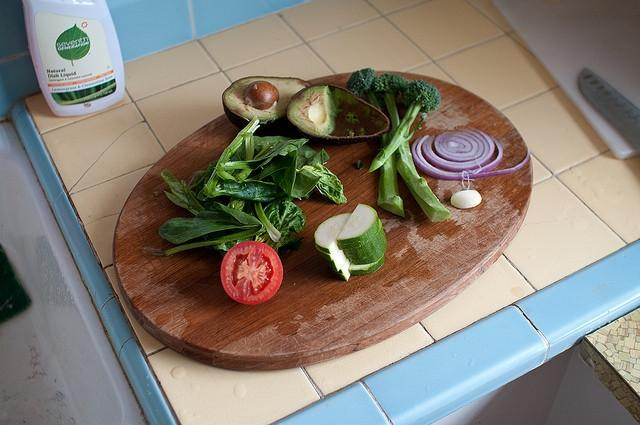avocado: (286, 82, 391, 146), (222, 76, 314, 136)
broccoli: (372, 73, 451, 222), (346, 67, 406, 218), (366, 78, 441, 174)
garlic: (450, 190, 482, 208)
tomato: (220, 240, 284, 305)
vegetable marrow: (336, 204, 378, 244), (314, 212, 353, 254), (343, 218, 384, 255), (337, 222, 379, 250), (346, 232, 386, 261), (348, 239, 388, 264), (349, 255, 385, 276), (320, 250, 346, 268), (315, 242, 339, 261), (337, 258, 351, 276)
